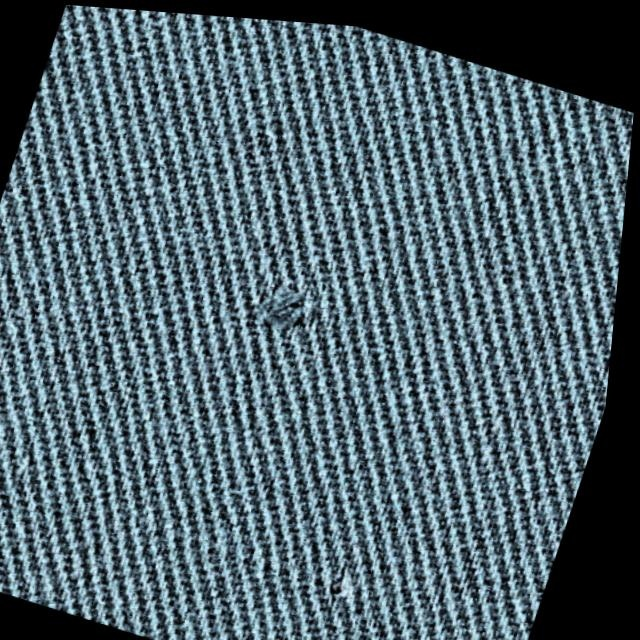Hole: (216, 237, 351, 380)
